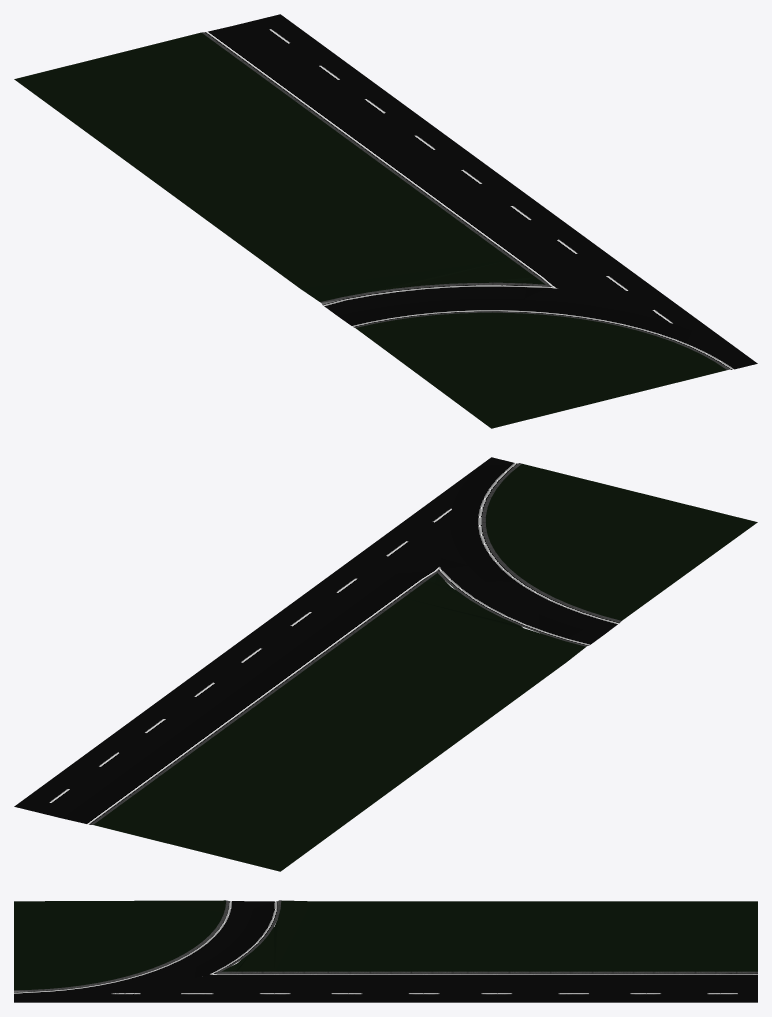
The model's file is uturn-5L_lod.fbx.
The picture shows the model from 3 angles, top to bottom: view 1: azimuth 30°, elevation 25°; view 2: azimuth 150°, elevation 25°; view 3: azimuth 270°, elevation 25°; orthographic projection. The views are drawn at different scales.
Parts seen in each view (by area): view 1: 4R回转_lod; view 2: 4R回转_lod; view 3: 4R回转_lod.
Part boxes in pixels (x1,y1,x2,y2): 4R回转_lod: (14, 14, 757, 428); 4R回转_lod: (14, 457, 757, 871); 4R回转_lod: (14, 900, 757, 1002).
Size of the model in its own units: 2063 by 8.5 by 6400.
